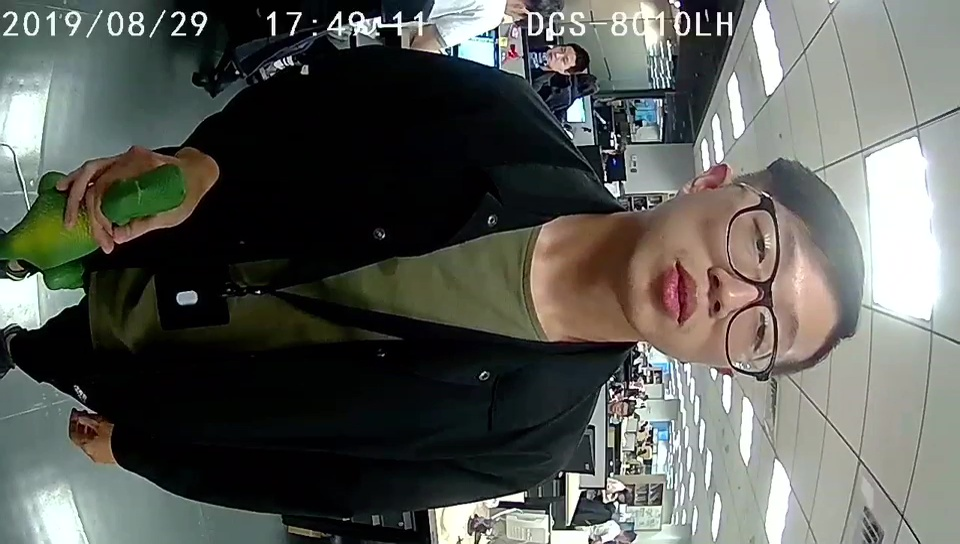rex: (11, 163, 188, 291)
